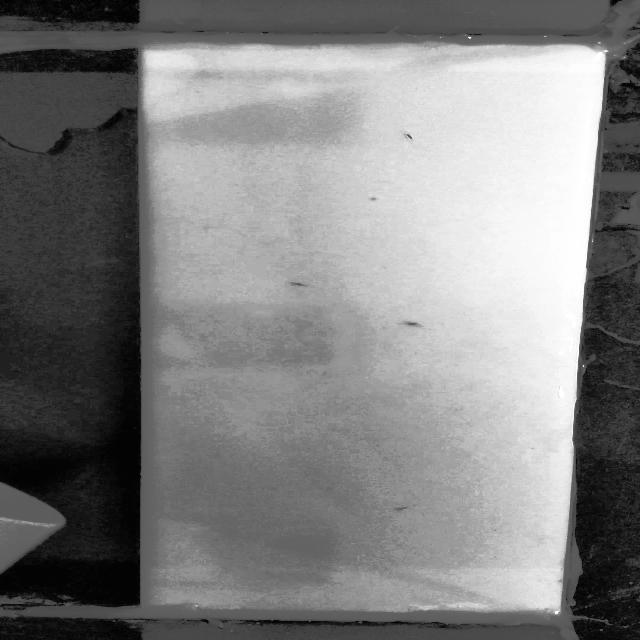shrimp: (393, 130, 436, 148), (284, 279, 335, 294), (401, 315, 435, 330), (363, 191, 396, 204), (392, 503, 420, 517)
